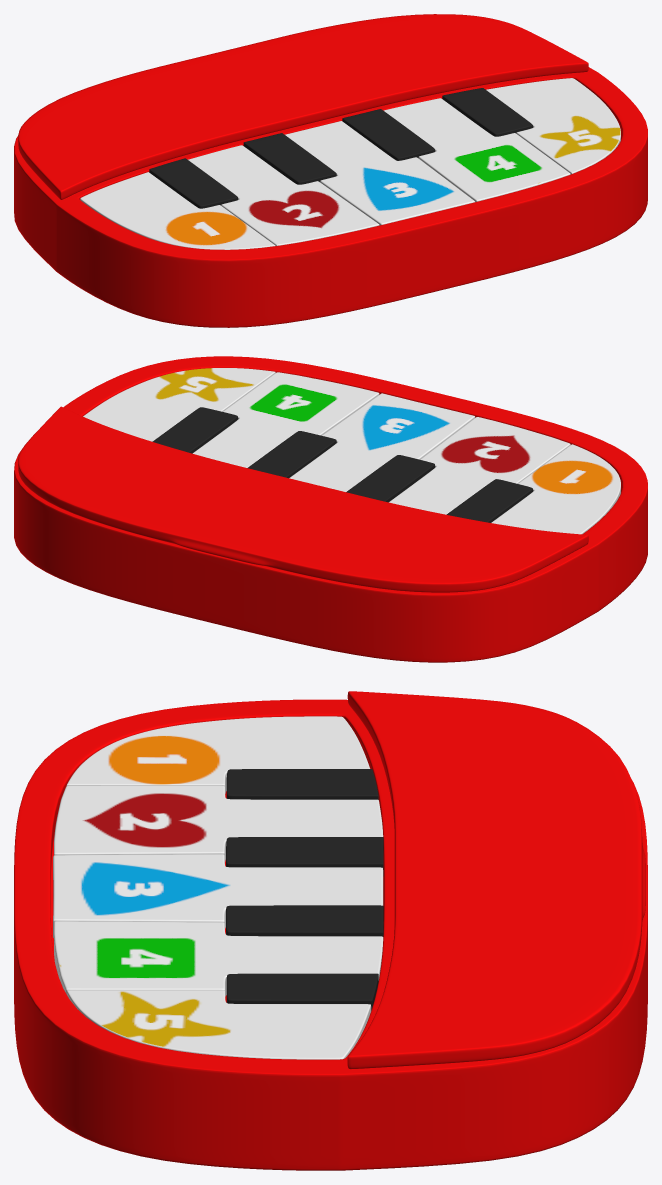
File: Toy Piano.FBX
The picture shows the model from 3 angles, top to bottom: view 1: azimuth 30°, elevation 25°; view 2: azimuth 150°, elevation 25°; view 3: azimuth 270°, elevation 25°; orthographic projection. The views are drawn at different scales.
Parts seen in each view (by area): view 1: Box, cover, whiteKey3, whiteKey4, whiteKey2, whiteKey1, whiteKey5, blackKey2, blackKey3, blackKey4, blackKey1; view 2: Box, cover, whiteKey3, whiteKey4, whiteKey2, whiteKey5, whiteKey1, blackKey2, blackKey3, blackKey4, blackKey1; view 3: Box, cover, whiteKey3, whiteKey4, whiteKey2, whiteKey5, whiteKey1, blackKey3, blackKey2, blackKey4, blackKey1.
Boxes of the visible parts, x1=… form: Box: x1=14, y1=67, x2=647, y2=327; cover: x1=18, y1=14, x2=588, y2=199; whiteKey3: x1=285, y1=121, x2=474, y2=225; whiteKey4: x1=383, y1=98, x2=570, y2=201; whiteKey2: x1=188, y1=145, x2=379, y2=245; whiteKey1: x1=80, y1=172, x2=275, y2=249; whiteKey5: x1=486, y1=78, x2=620, y2=174; blackKey2: x1=243, y1=133, x2=336, y2=184; blackKey3: x1=342, y1=109, x2=434, y2=160; blackKey4: x1=442, y1=88, x2=532, y2=136; blackKey1: x1=149, y1=158, x2=237, y2=208; Box: x1=14, y1=356, x2=647, y2=662; cover: x1=18, y1=406, x2=588, y2=592; whiteKey3: x1=289, y1=393, x2=475, y2=491; whiteKey4: x1=192, y1=372, x2=379, y2=467; whiteKey2: x1=389, y1=417, x2=570, y2=514; whiteKey5: x1=83, y1=368, x2=275, y2=441; whiteKey1: x1=491, y1=444, x2=620, y2=534; blackKey2: x1=346, y1=455, x2=434, y2=502; blackKey3: x1=247, y1=431, x2=336, y2=478; blackKey4: x1=152, y1=407, x2=237, y2=453; blackKey1: x1=446, y1=479, x2=532, y2=522; Box: x1=14, y1=699, x2=647, y2=1170; cover: x1=347, y1=691, x2=645, y2=1069; whiteKey3: x1=53, y1=854, x2=383, y2=937; whiteKey4: x1=54, y1=921, x2=383, y2=996; whiteKey2: x1=54, y1=785, x2=383, y2=862; whiteKey5: x1=66, y1=990, x2=371, y2=1059; whiteKey1: x1=66, y1=716, x2=370, y2=794; blackKey3: x1=226, y1=905, x2=383, y2=936; blackKey2: x1=226, y1=837, x2=383, y2=876; blackKey4: x1=226, y1=973, x2=378, y2=1010; blackKey1: x1=226, y1=769, x2=378, y2=799.
Size of the model in its own units: 59.62 by 8.13 by 42.53.
